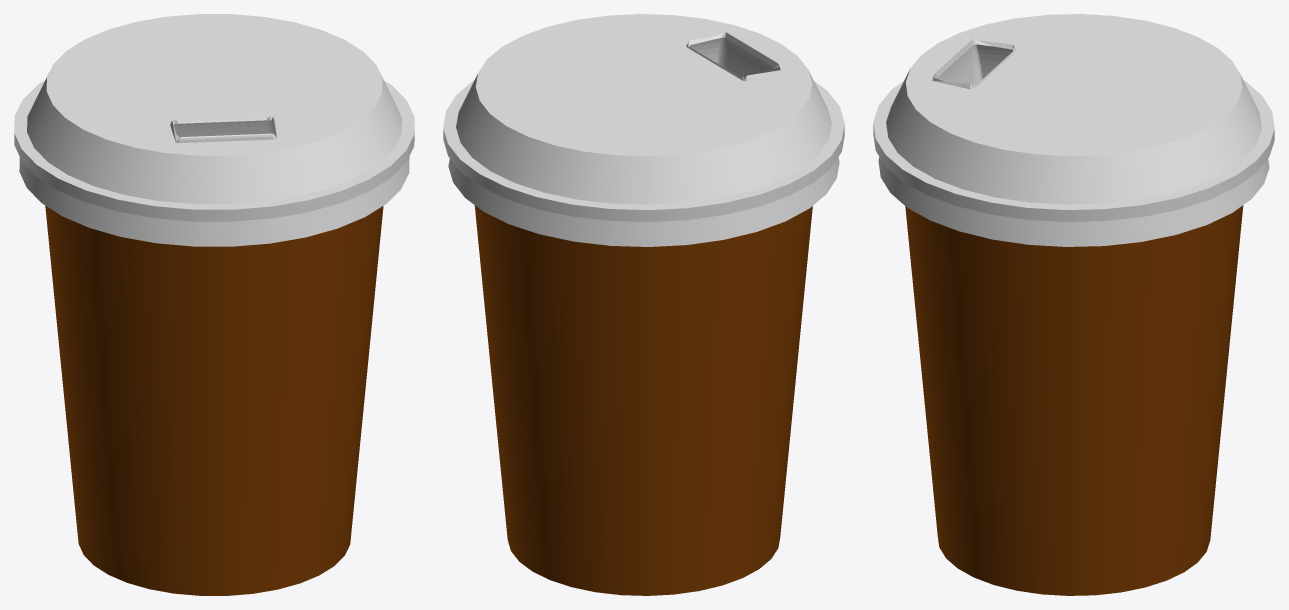
The model's file is copo.fbx.
The picture shows the model from 3 angles, left to right: view 1: azimuth 30°, elevation 25°; view 2: azimuth 150°, elevation 25°; view 3: azimuth 270°, elevation 25°; orthographic projection.
Visible parts, largest first — view 1: Cylinder.011; view 2: Cylinder.011; view 3: Cylinder.011.
Boxes of the visible parts, x1,y1,x2,y2 form: Cylinder.011: (14,14,414,595); Cylinder.011: (443,14,844,595); Cylinder.011: (873,14,1274,595).
Bounding box in the file's own units: 121 × 152 × 121.
